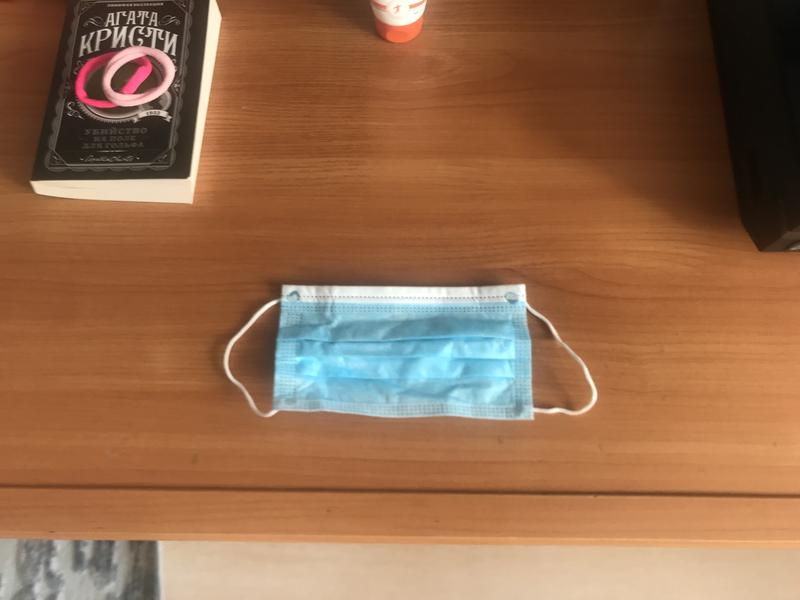medical_mask: (220, 285, 597, 421)
